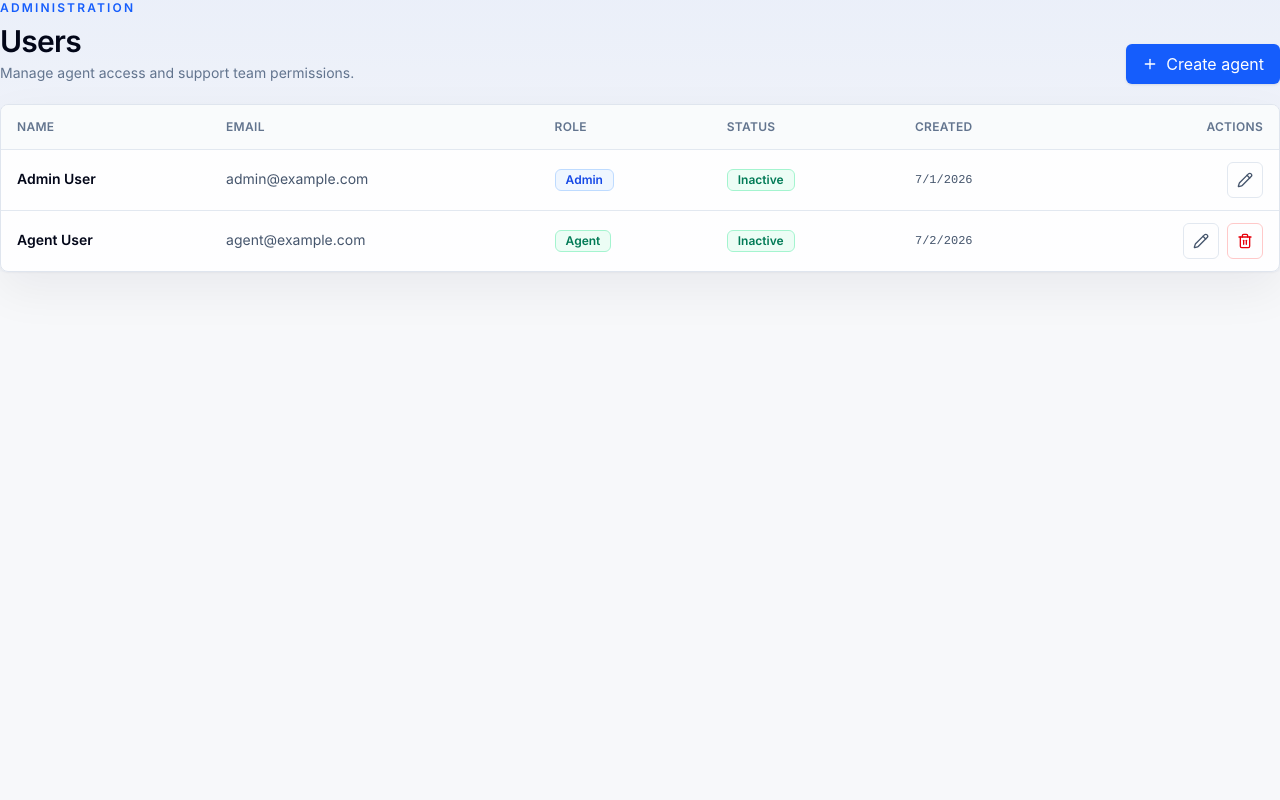
Test case: UsersPage › refreshes the users list after successful deletion
The image size is (1280, 800).
What coordinates should you click on to do the following:
click the button named "Delete Agent User"
I would click on:
 (1245, 240)
Its box is left=1227, top=222, right=1263, bottom=258.
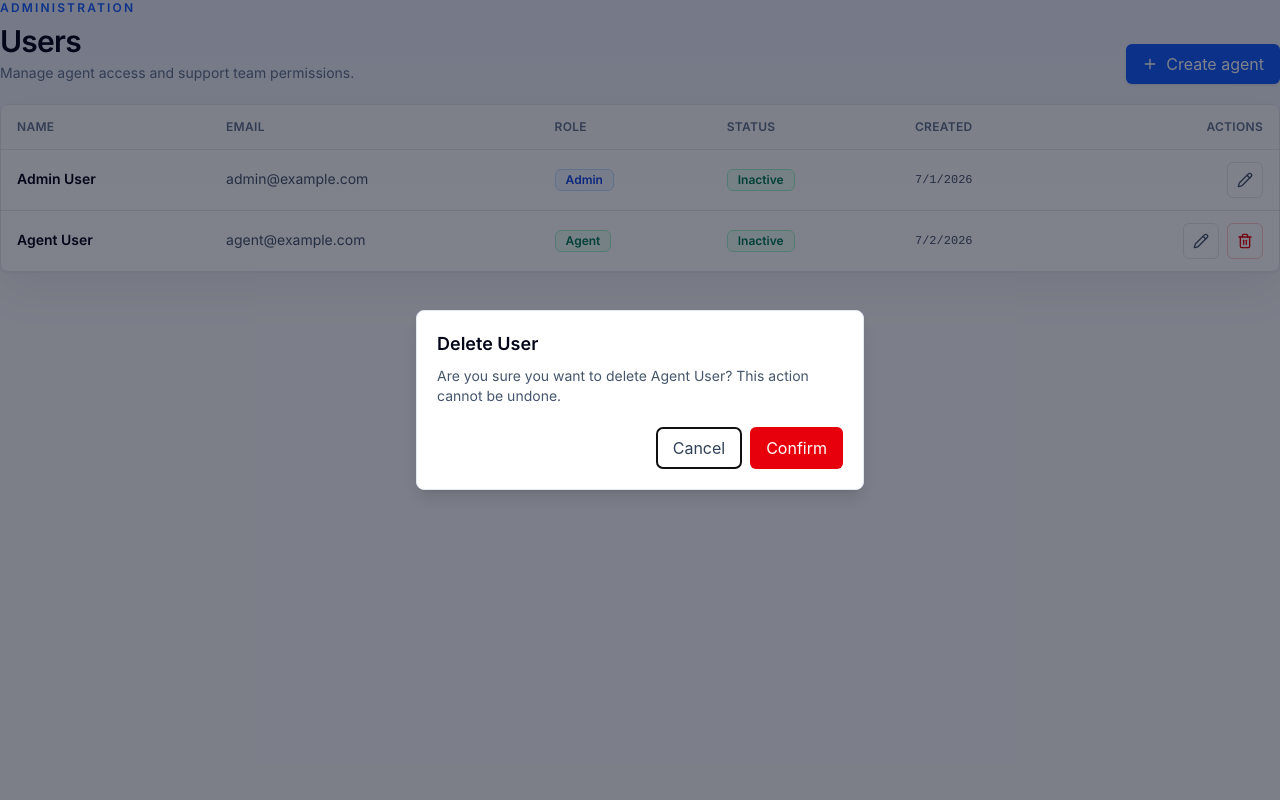
What coordinates should you click on to do the following:
click the button "Confirm"
I would click on:
 (797, 448)
Its box is left=750, top=427, right=843, bottom=469.
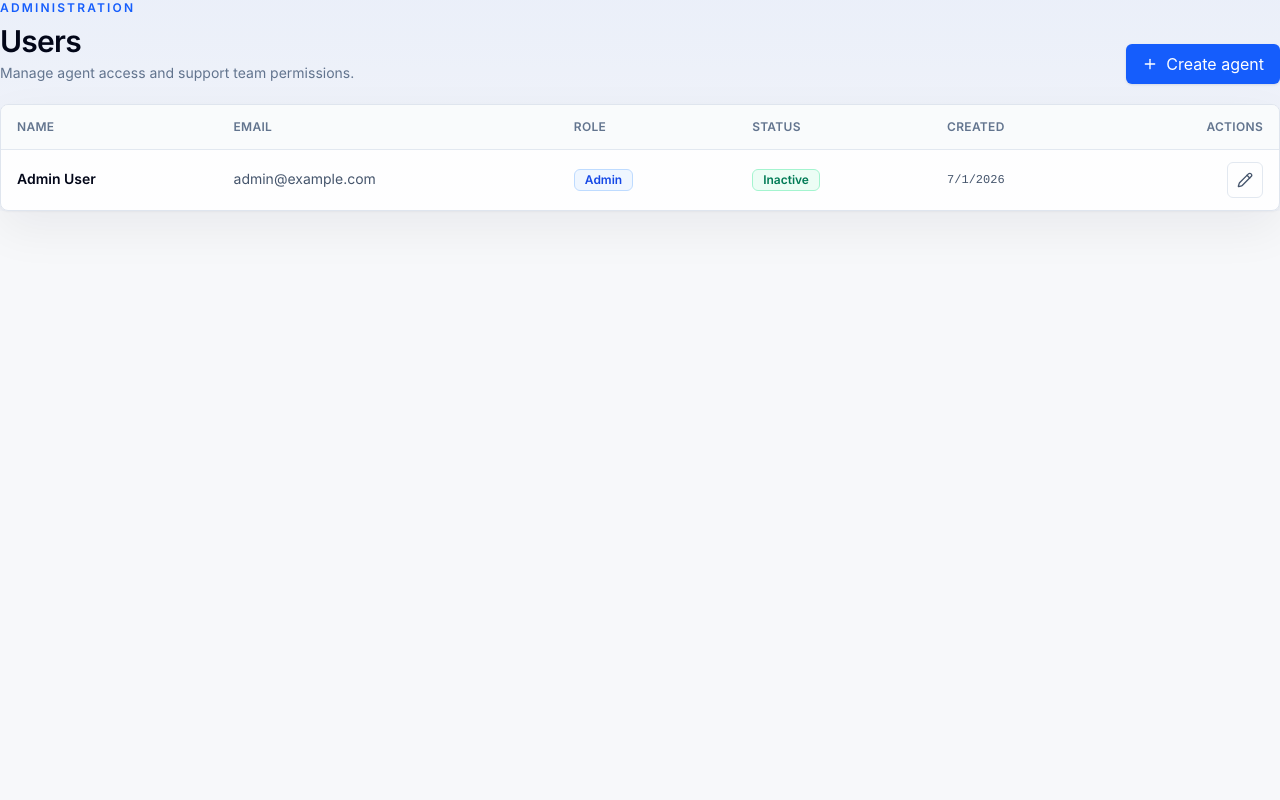
expect the text "Agent User" is gone: met
